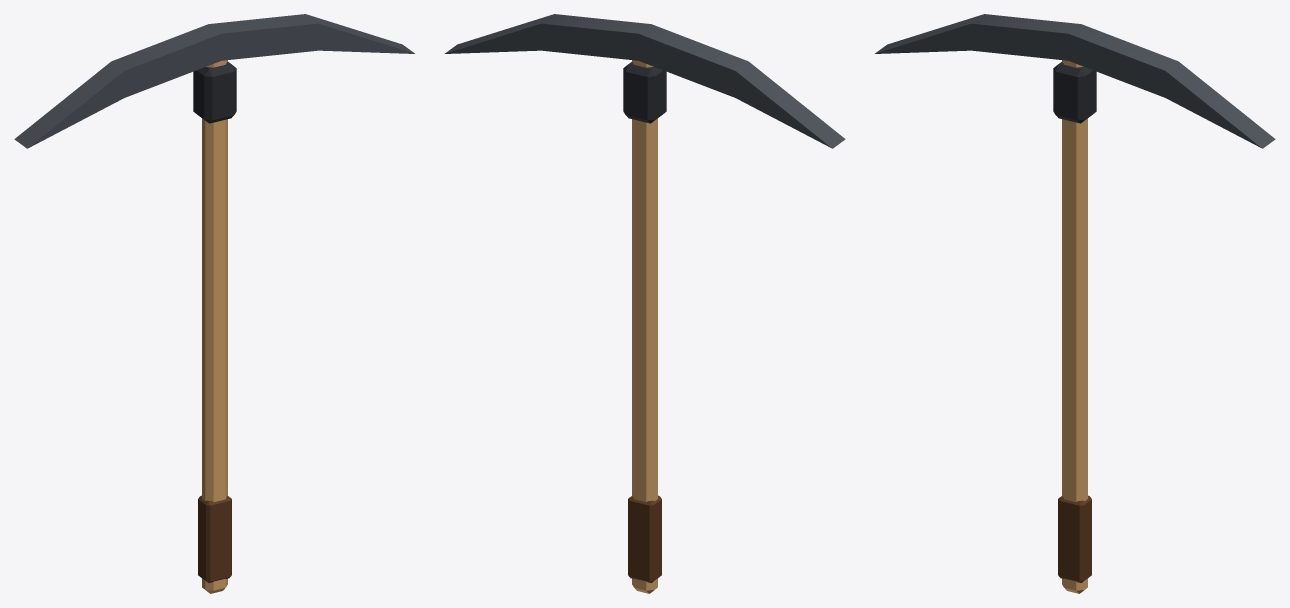
The model's file is SM_Pickaxe.glb.
3 views of the same model, side by side, from view 1: azimuth 30°, elevation 25°; view 2: azimuth 150°, elevation 25°; view 3: azimuth 330°, elevation 25° (orthographic).
Visible parts, largest first — view 1: SM_Pickaxe; view 2: SM_Pickaxe; view 3: SM_Pickaxe.
Boxes of the visible parts, x1,y1,x2,y2 form: SM_Pickaxe: [14, 14, 414, 593]; SM_Pickaxe: [445, 14, 845, 593]; SM_Pickaxe: [875, 14, 1275, 593].
Bounding box in the file's own units: 0.6 × 0.83 × 0.045.
Materials: 1 (1 with a texture image).
